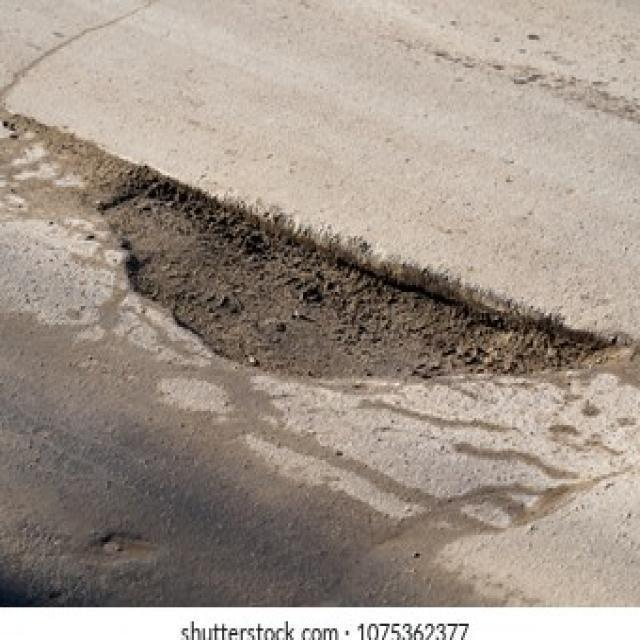pothole: (98, 147, 630, 393)
